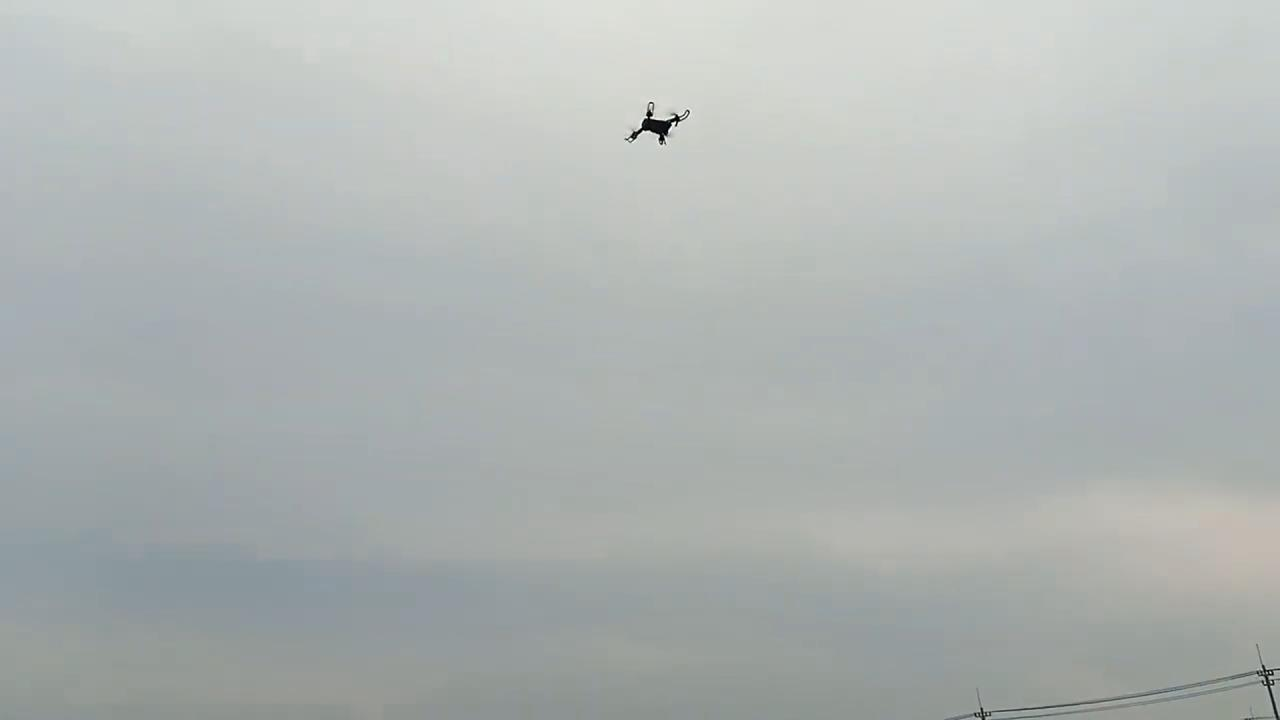Drone: (614, 94, 697, 160)
